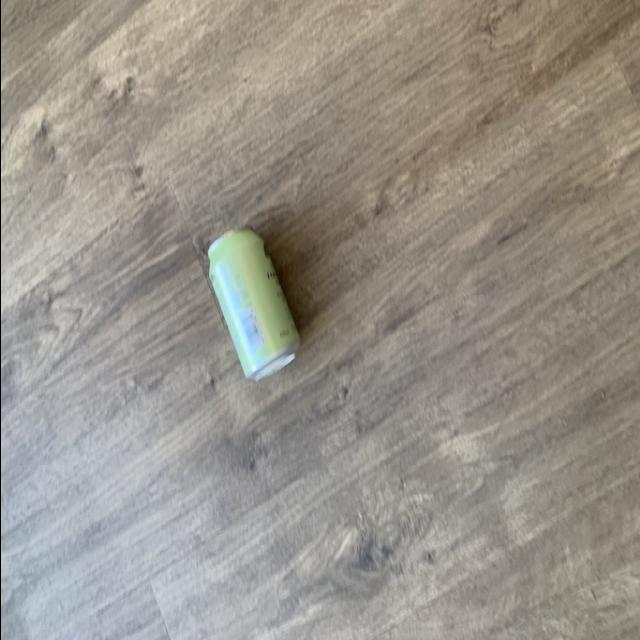litter: (203, 224, 311, 386)
